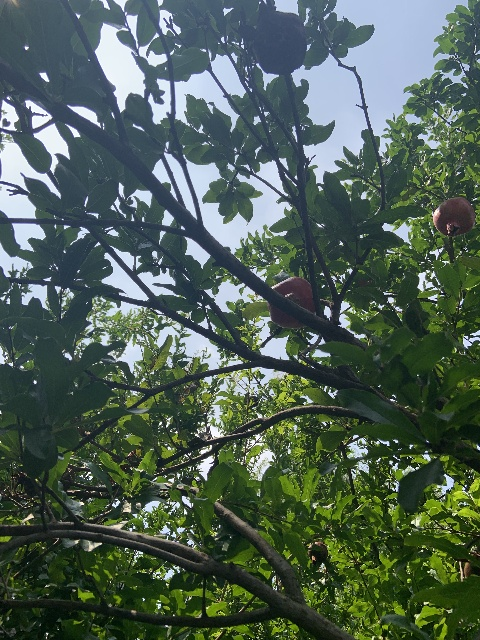ripe: (267, 276, 313, 328), (433, 197, 475, 236)
